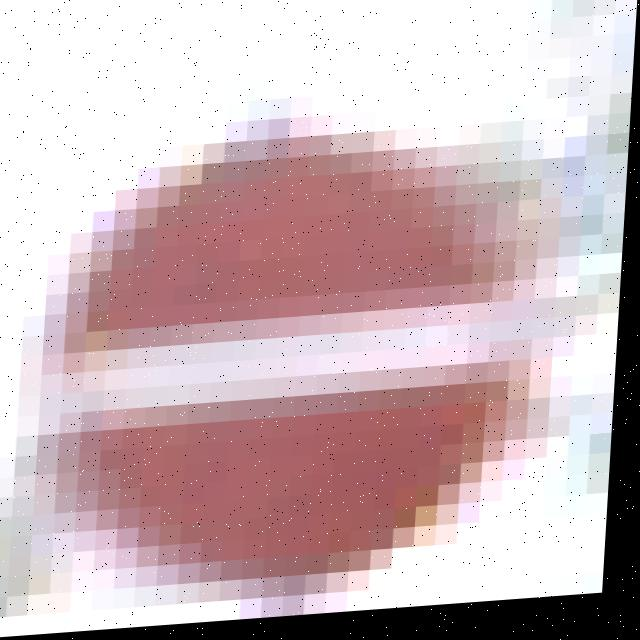road_rough: (14, 60, 557, 590)
